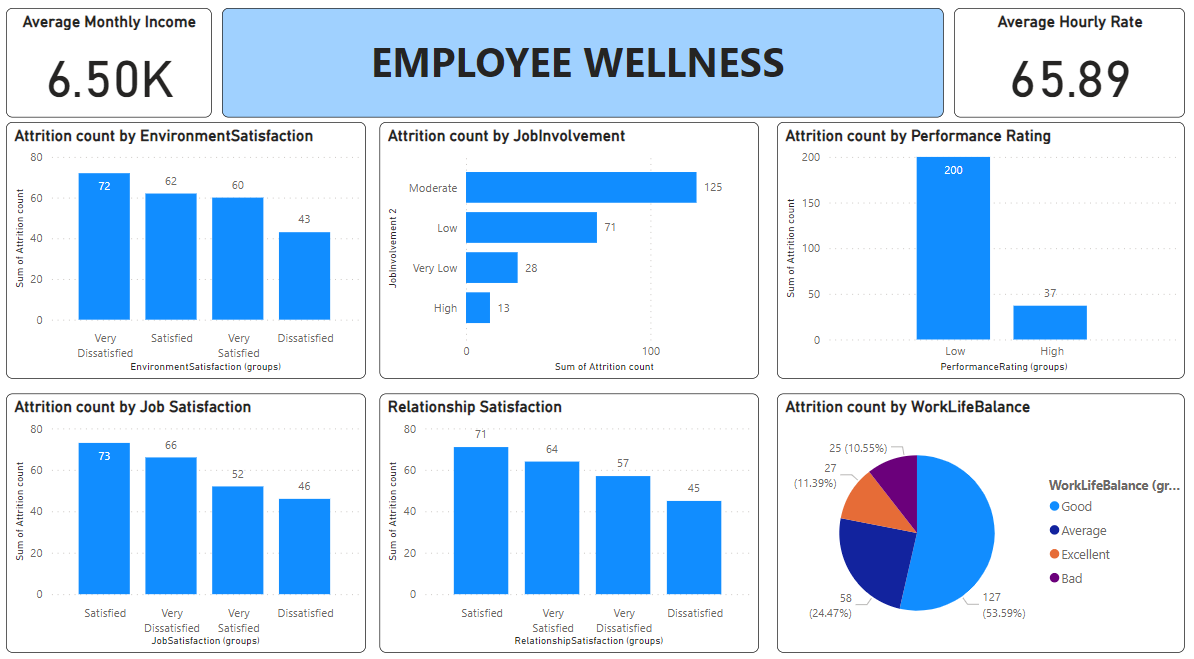

This screenshot's page, from the dashboard's own definition file:
{"tool":"powerbi","page":{"name":"Page 5","canvas":[1280,720],"ordinal":4},"visuals":[{"type":"columnChart","title":"Attrition count by EnvironmentSatisfaction","fields":{"Category":["HR-Employee-Attrition.EnvironmentSatisfaction (groups)"],"Y":["Sum(HR-Employee-Attrition.Attrition count)"]},"box":[9.5,146.2,381.5,271.8],"z":0},{"type":"columnChart","title":"Attrition count by Job  Satisfaction","fields":{"Y":["Sum(HR-Employee-Attrition.Attrition count)"],"Category":["HR-Employee-Attrition.JobSatisfaction (groups)"]},"box":[9.5,433.9,381.5,275],"z":1000},{"type":"barChart","title":"Attrition count by JobInvolvement ","fields":{"Category":["HR-Employee-Attrition.JobInvolvement 2"],"Y":["Sum(HR-Employee-Attrition.Attrition count)"]},"box":[405.3,146.2,402.1,271.8],"z":2000},{"type":"columnChart","title":" Relationship Satisfaction","fields":{"Y":["Sum(HR-Employee-Attrition.Attrition count)"],"Category":["HR-Employee-Attrition.RelationshipSatisfaction (groups)"]},"box":[405.3,433.9,402.1,275],"z":3000},{"type":"columnChart","title":"Attrition count by Performance Rating","fields":{"Category":["HR-Employee-Attrition.PerformanceRating (groups)"],"Y":["Sum(HR-Employee-Attrition.Attrition count)"]},"box":[826.5,146.2,432.3,271.8],"z":4000},{"type":"pieChart","title":"Attrition count by WorkLifeBalance","fields":{"Category":["HR-Employee-Attrition.WorkLifeBalance (groups)"],"Y":["Sum(HR-Employee-Attrition.Attrition count)"]},"box":[826.5,433.9,432.3,275],"z":5000},{"type":"card","title":"Average Monthly Income","fields":{"Values":["Avg(HR-Employee-Attrition.MonthlyIncome)"]},"box":[9.5,25.4,217.7,116],"z":6000},{"type":"card","title":"Average Hourly Rate","fields":{"Values":["Avg(HR-Employee-Attrition.HourlyRate)"]},"box":[1014,25.4,244.8,116],"z":7000},{"type":"textbox","box":[238.4,25.4,764.5,116],"z":8000}]}

Visuals, with their boxes in screenshot pixels (x1, y1, x2, y2), scaled from the page's 1280x720 canvas onto the 1194x659 screenshot:
"Attrition count by EnvironmentSatisfaction" columnChart: left=9, top=134, right=365, bottom=383
"Attrition count by Job  Satisfaction" columnChart: left=9, top=397, right=365, bottom=649
"Attrition count by JobInvolvement " barChart: left=378, top=134, right=753, bottom=383
" Relationship Satisfaction" columnChart: left=378, top=397, right=753, bottom=649
"Attrition count by Performance Rating" columnChart: left=771, top=134, right=1174, bottom=383
"Attrition count by WorkLifeBalance" pieChart: left=771, top=397, right=1174, bottom=649
"Average Monthly Income" card: left=9, top=23, right=212, bottom=129
"Average Hourly Rate" card: left=946, top=23, right=1174, bottom=129
textbox: left=222, top=23, right=936, bottom=129
